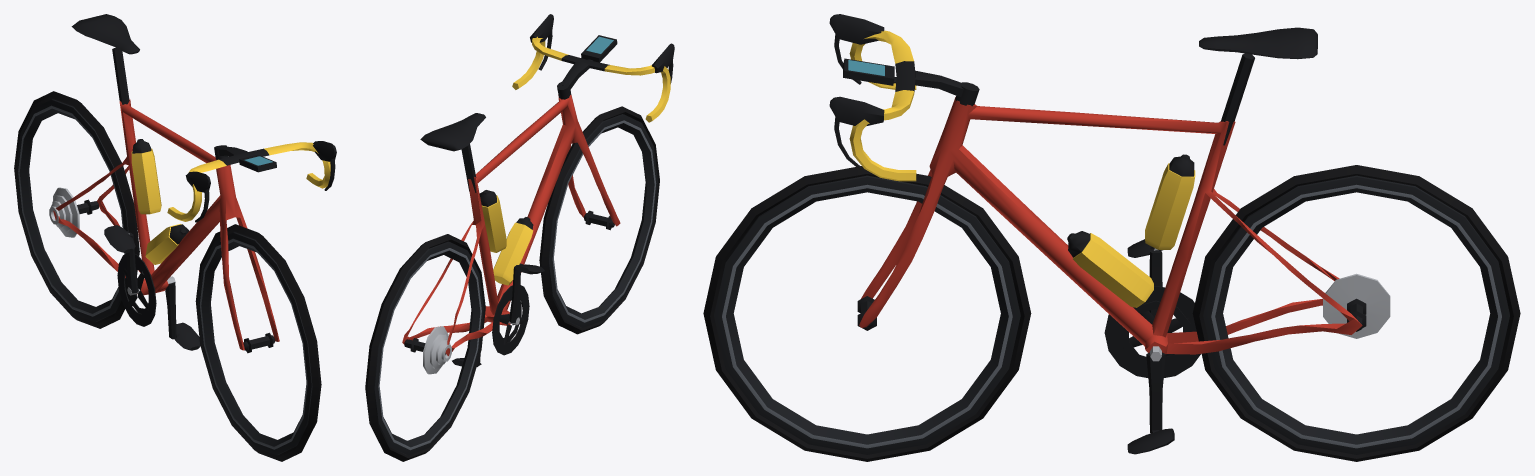
File: bike_climb_lod1.glb
The picture shows the model from 3 angles, left to right: view 1: azimuth 30°, elevation 25°; view 2: azimuth 150°, elevation 25°; view 3: azimuth 270°, elevation 25°; orthographic projection. The views are drawn at different scales.
Parts seen in each view (by area): view 1: frame, wheel_front, wheel_rear, crankset, pedal_R, pedal_L; view 2: frame, wheel_rear, wheel_front, crankset; view 3: frame, wheel_rear, wheel_front, crankset.
Part boxes in pixels (left/top/right/bottom): frame: left=53, top=14, right=336, bottom=350; wheel_front: left=195, top=224, right=321, bottom=461; wheel_rear: left=14, top=91, right=139, bottom=328; crankset: left=117, top=232, right=176, bottom=339; pedal_R: left=104, top=225, right=135, bottom=253; pedal_L: left=175, top=322, right=200, bottom=350; frame: left=402, top=14, right=674, bottom=356; wheel_rear: left=365, top=234, right=485, bottom=461; wheel_front: left=539, top=106, right=659, bottom=334; crankset: left=476, top=265, right=529, bottom=366; frame: left=829, top=14, right=1362, bottom=354; wheel_rear: left=1192, top=165, right=1520, bottom=461; wheel_front: left=703, top=166, right=1031, bottom=461; crankset: left=1104, top=250, right=1200, bottom=433.
Size of the model in its own units: 0.4652 by 0.9585 by 1.67.
